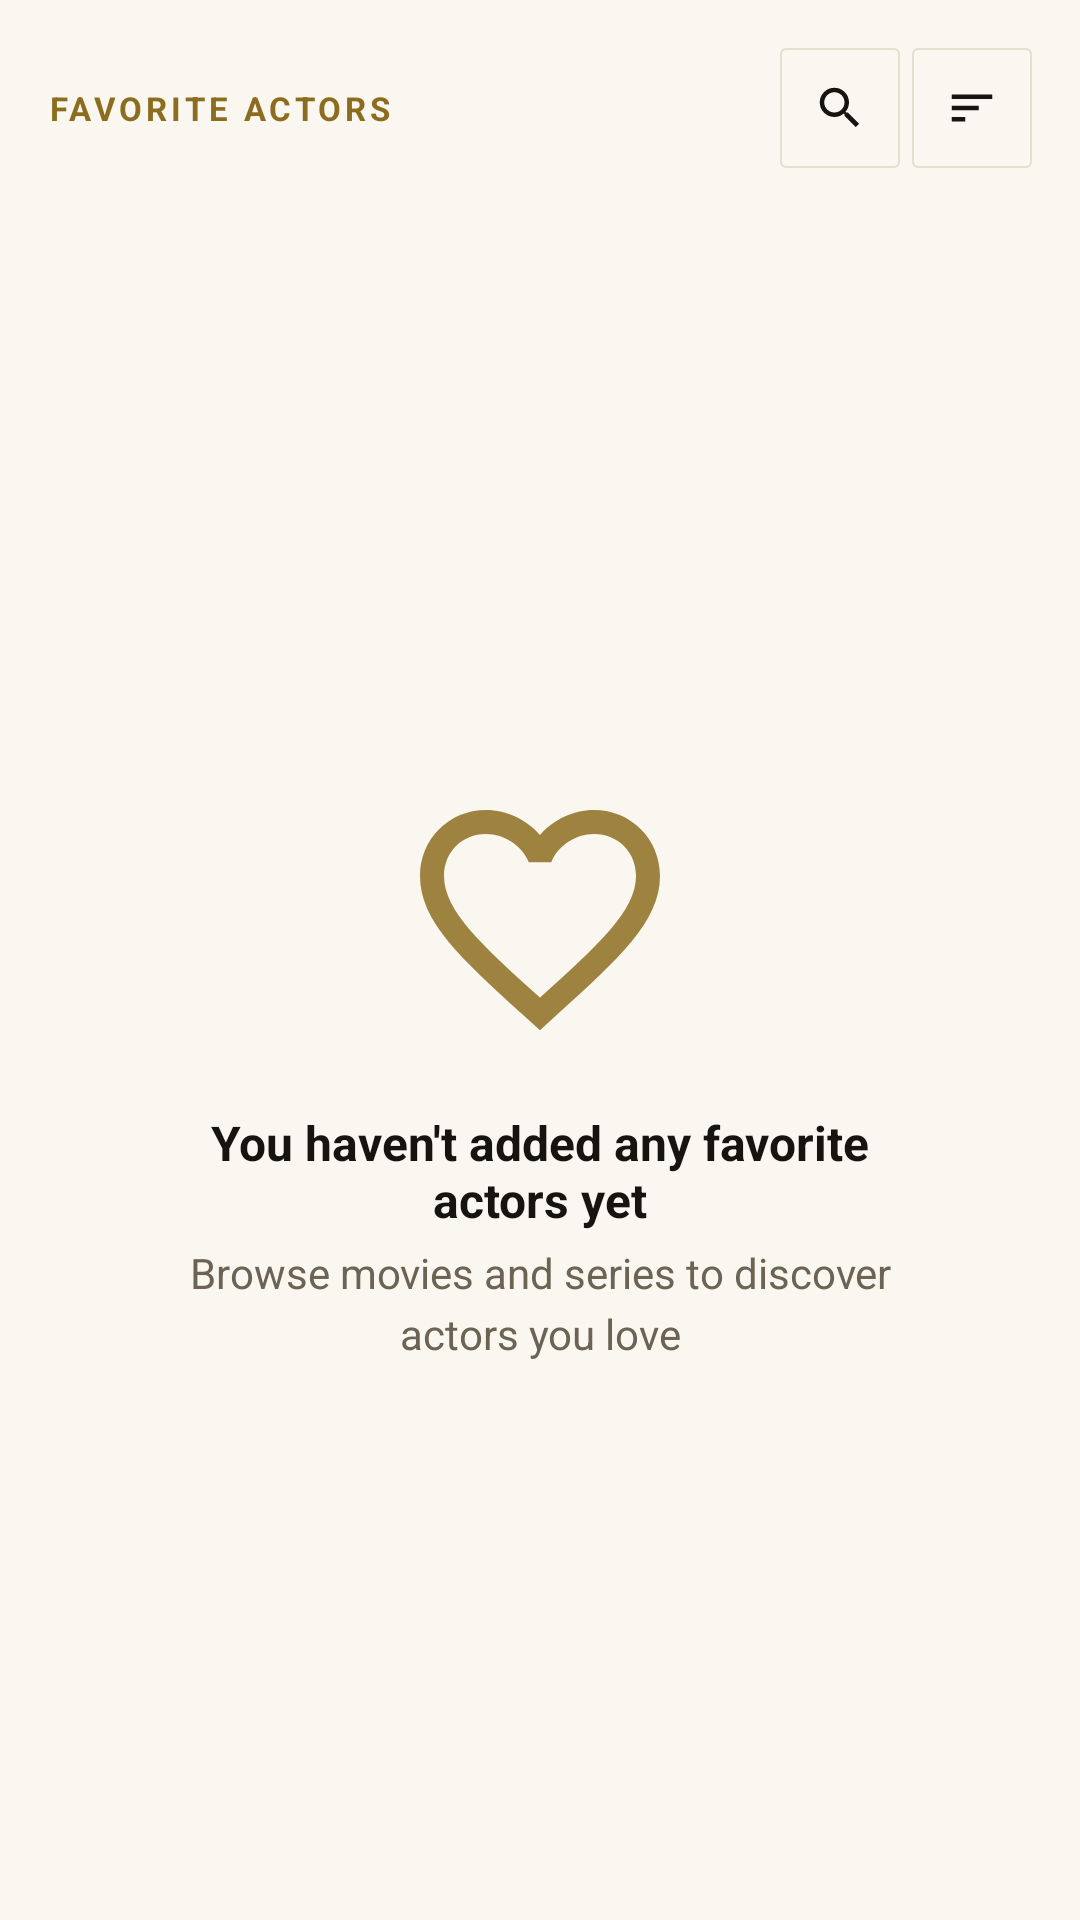

Screen size 1080px x 1920px. Icon name, then its box in pixels as region(x1, y1, x2, y2):
favorite border: region(420, 810, 660, 1030)
